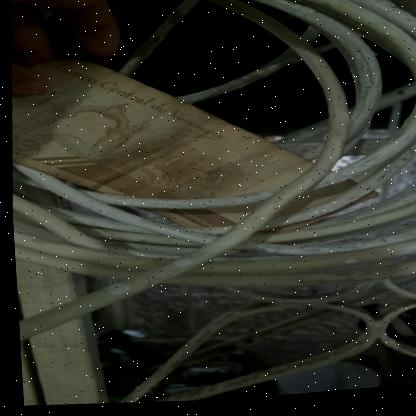five-back-vef: (3, 35, 387, 279)
